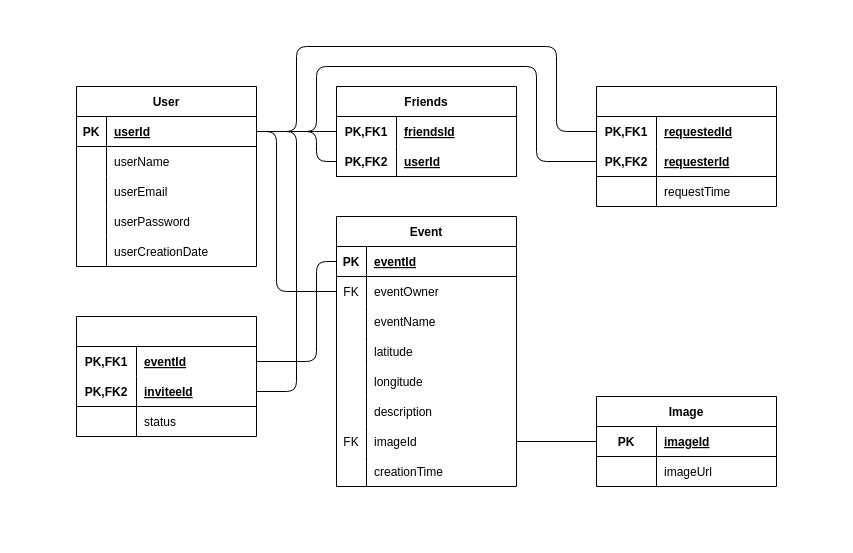
Image size: 853x553. Some labels were removed from this diagram. Here are the shapes that lost their labels. From the top down, the box of each, then its label:
(596, 86, 776, 206): FriendRequests
(76, 316, 256, 436): Invitation
